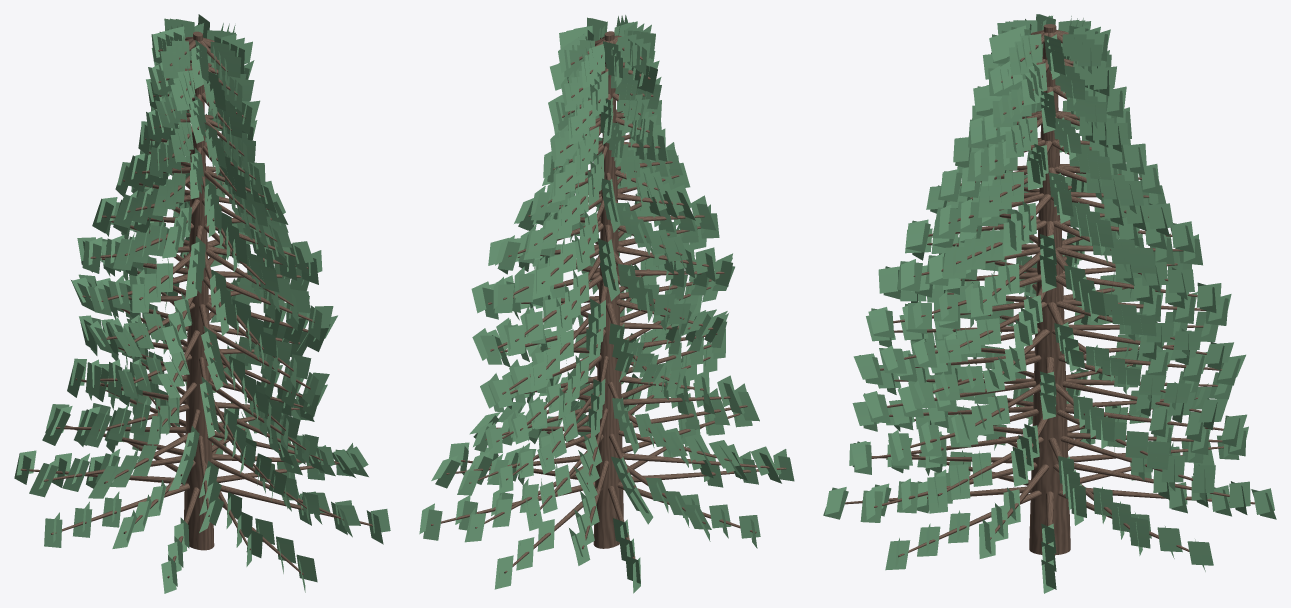
File: tree_spruce02.glb
3 views of the same model, side by side, from view 1: azimuth 30°, elevation 25°; view 2: azimuth 150°, elevation 25°; view 3: azimuth 270°, elevation 25° (orthographic). The views are drawn at different scales.
Visible parts, largest first — view 1: needles, branches, trunk; view 2: needles, branches, trunk; view 3: needles, branches, trunk.
Boxes of the visible parts, <box> form: needles: <box>14,14,390,593</box>; branches: <box>21,37,372,578</box>; trunk: <box>184,31,214,550</box>; needles: <box>419,15,794,593</box>; branches: <box>431,35,786,575</box>; trunk: <box>593,31,623,548</box>; needles: <box>823,14,1276,593</box>; branches: <box>845,30,1254,561</box>; trunk: <box>1029,24,1070,555</box>.
Size of the model in its own units: 3.97 by 6.22 by 4.88.
Materials: 2 (2 with a texture image).
